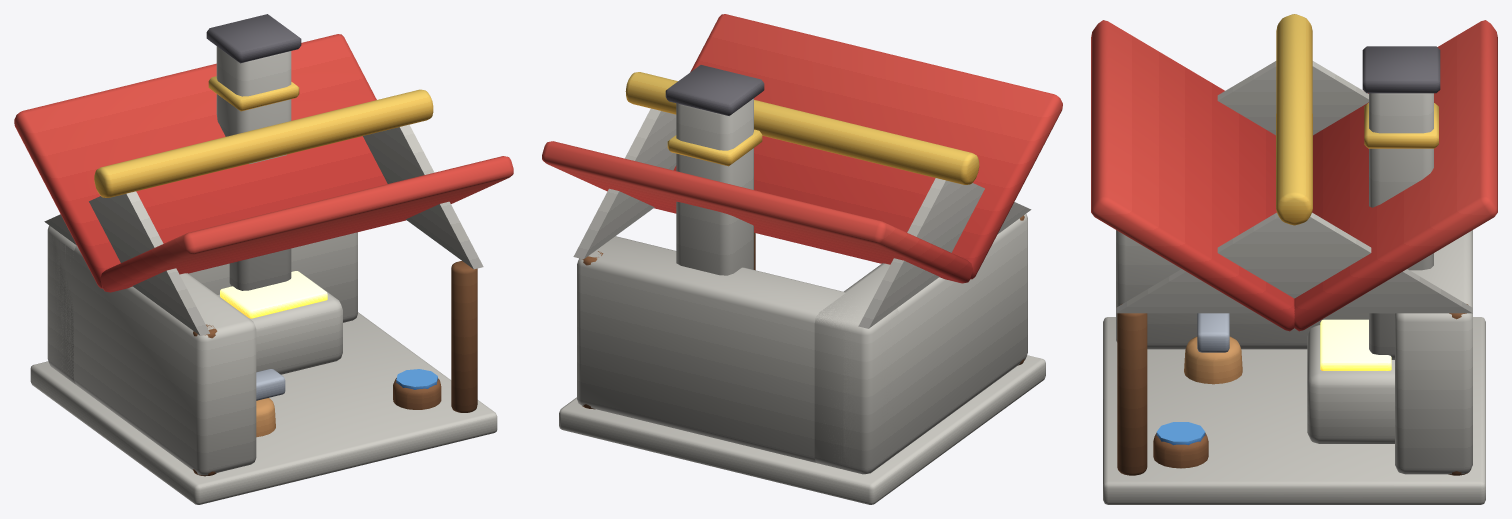
Rendered from forgeR.glb.
3 renders of one model, left to right at view 1: azimuth 30°, elevation 25°; view 2: azimuth 150°, elevation 25°; view 3: azimuth 270°, elevation 25°, orthographic. The views are drawn at different scales.
Parts seen in each view (by area): view 1: forgeR; view 2: forgeR; view 3: forgeR.
Boxes of the visible parts, left/top/right/bottom form: forgeR: left=14, top=14, right=513, bottom=504; forgeR: left=542, top=14, right=1062, bottom=504; forgeR: left=1091, top=14, right=1497, bottom=504.
Size of the model in its own units: 1.33 by 1.29 by 1.25.
1 material, 1 textured.
